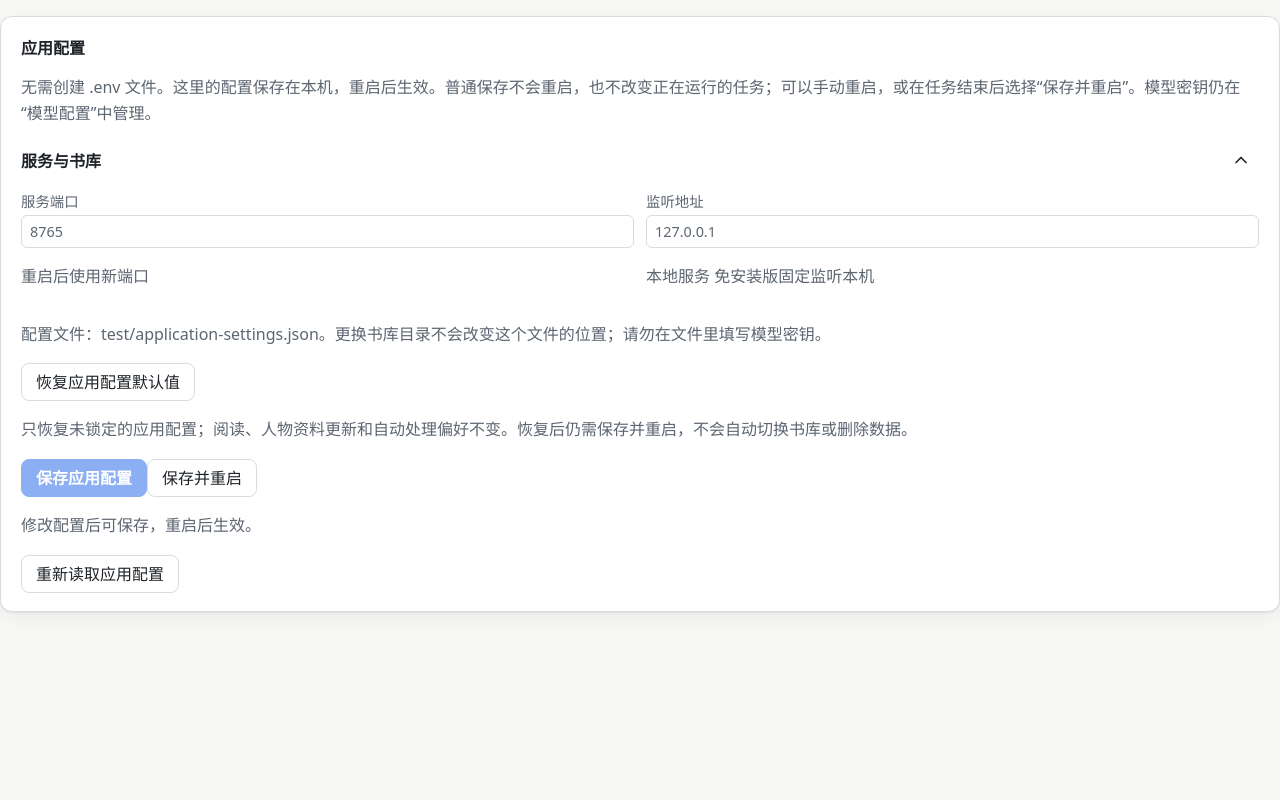
Test: 成功重启后锁定编辑并显示重新打开入口
Expected: the number field labelled "服务端口" is shown, [21,215,634,248]
Click the button "保存并重启" at coordinates (202, 478), box [147,459,257,497]
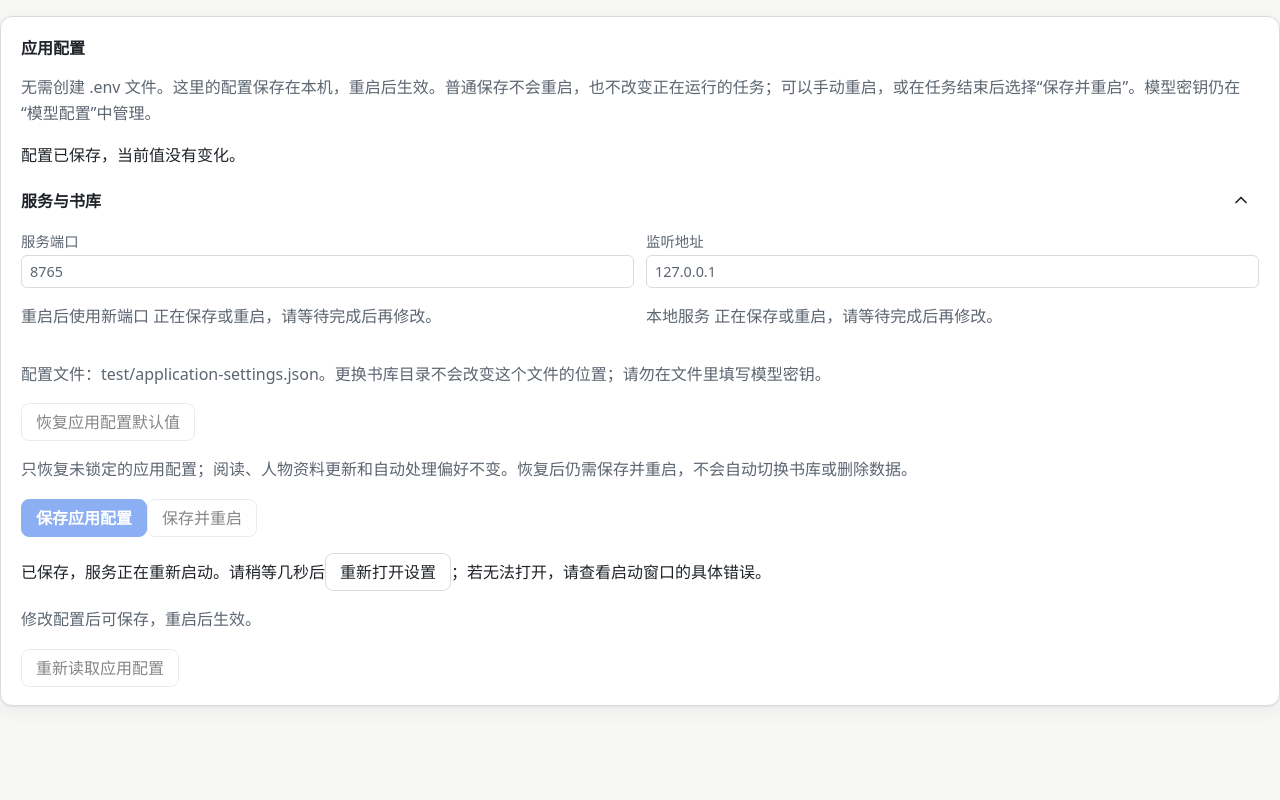
Expected: the number field labelled "服务端口" is disabled, [21,255,634,288]
